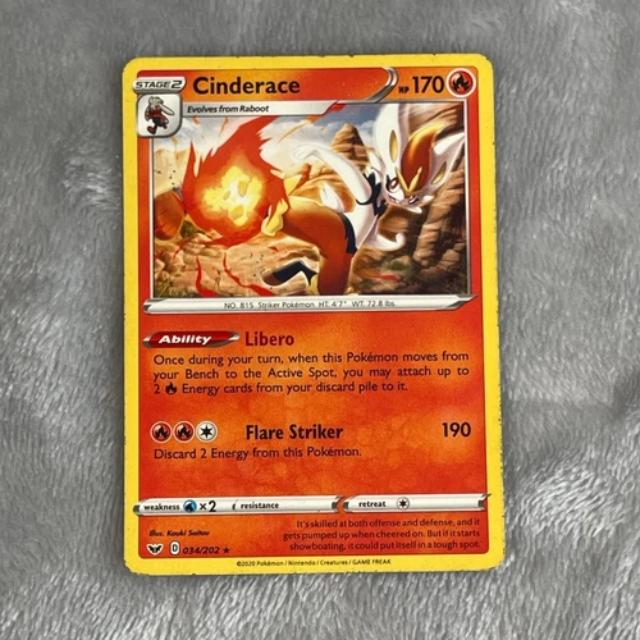Card: (117, 51, 508, 578)
Name: (192, 72, 303, 100)
